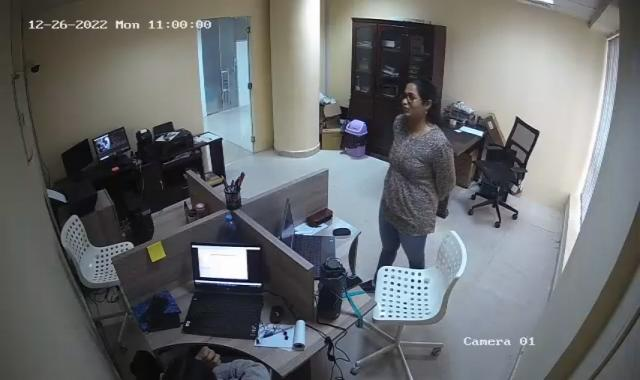no_hairnet: (402, 82, 430, 122)
